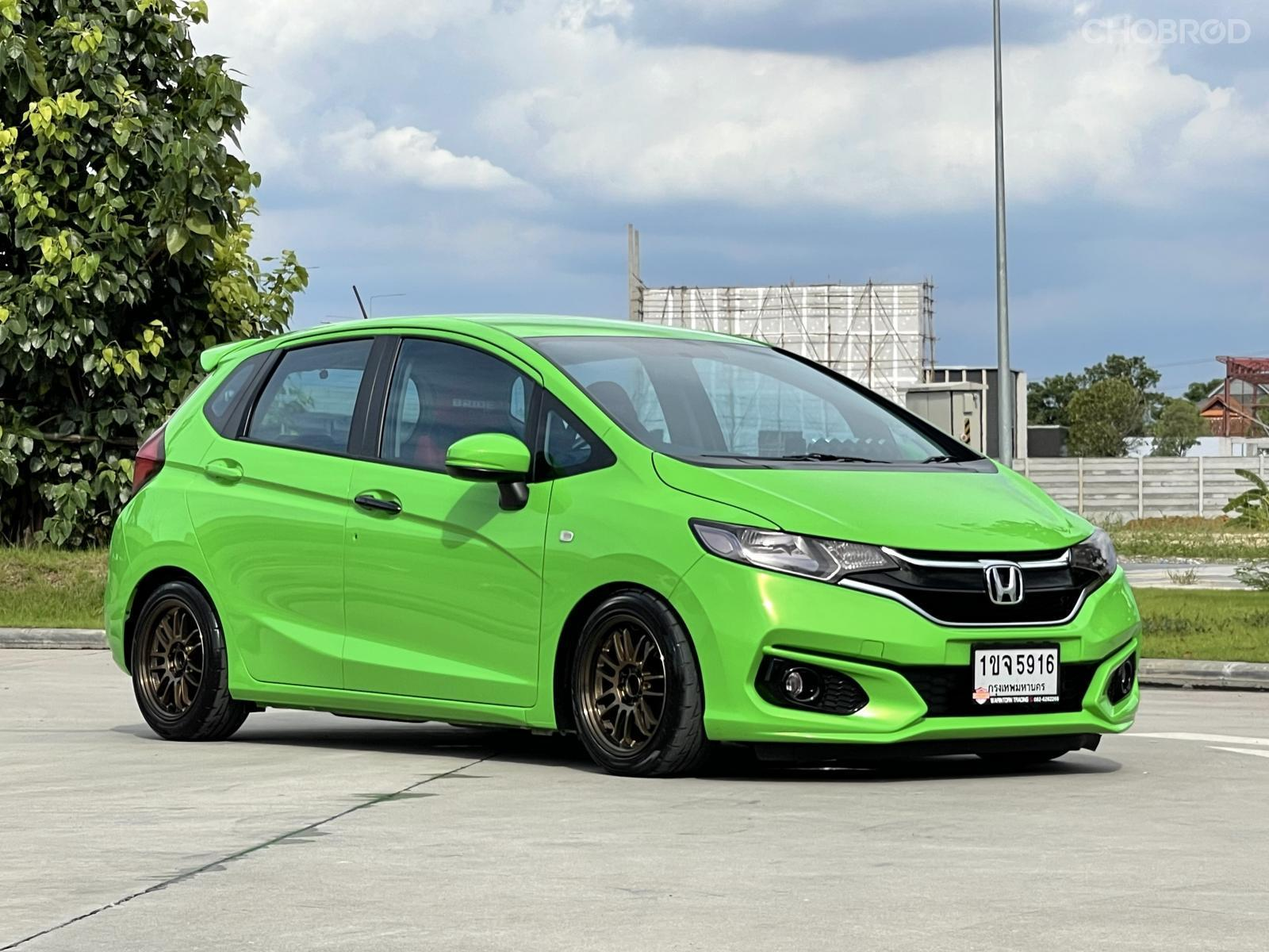license-plate: (969, 637, 1063, 710)
